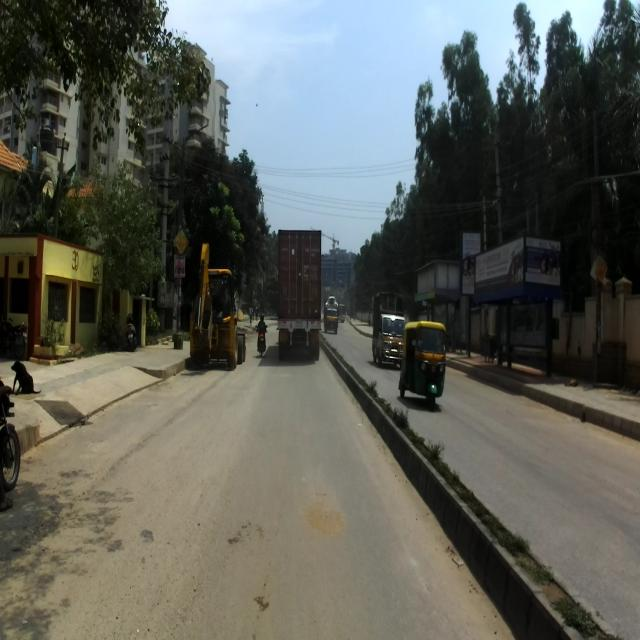autorickshaw: (398, 320, 446, 411)
truck: (276, 226, 323, 364), (372, 290, 406, 369)
